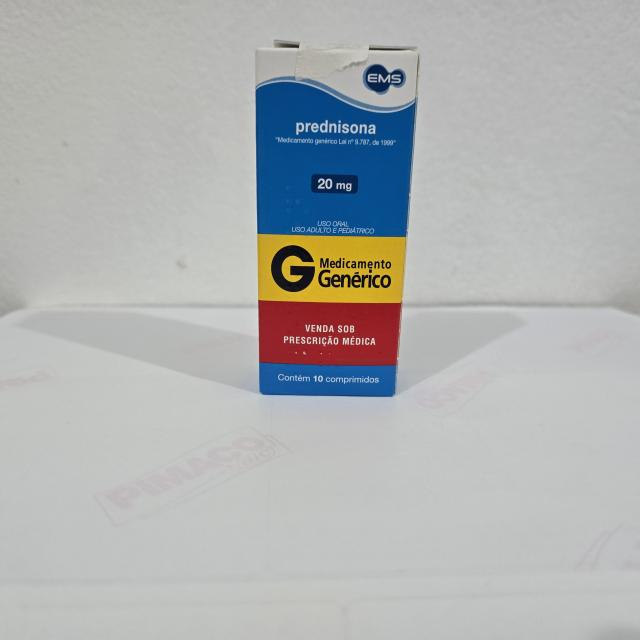prednisona: (249, 35, 423, 404)
